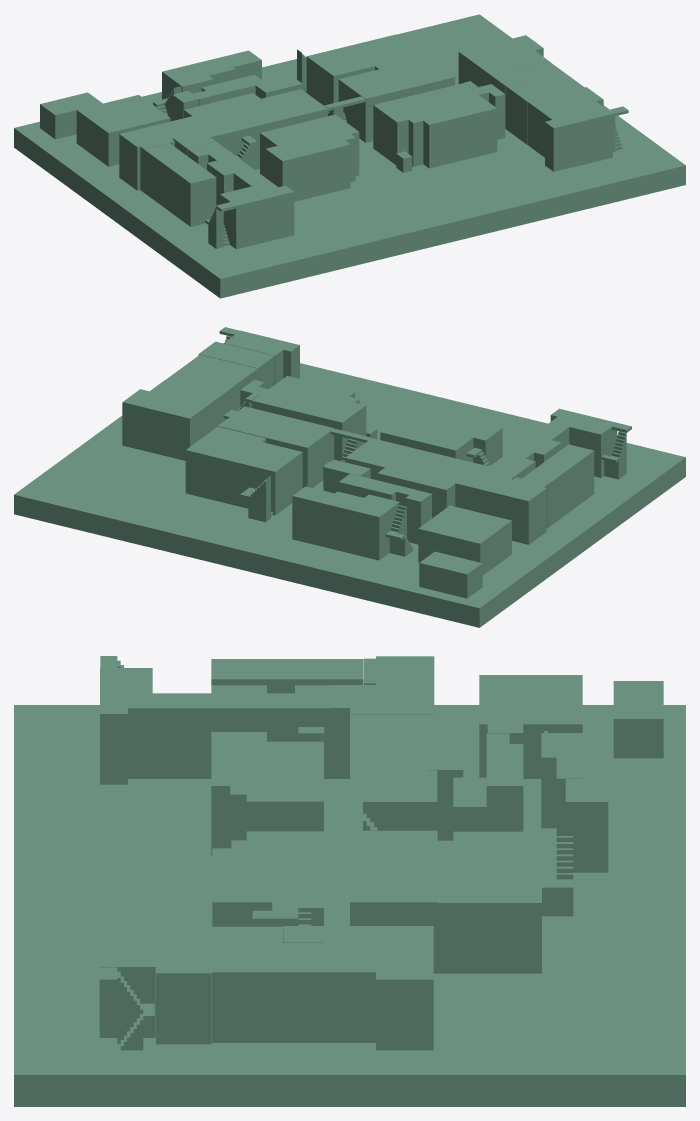
Rendered from OCH GF only (2).glb.
3 renders of one model, top to bottom at view 1: azimuth 30°, elevation 25°; view 2: azimuth 150°, elevation 25°; view 3: azimuth 270°, elevation 25°, orthographic. The views are drawn at different scales.
Parts seen in each view (by area): view 1: 1F; view 2: 1F; view 3: 1F.
Part boxes in pixels (bbox=[...]): 1F: bbox=[14, 14, 685, 298]; 1F: bbox=[14, 327, 685, 627]; 1F: bbox=[14, 656, 685, 1106].
Size of the model in its own units: 49.69 by 6.48 by 38.15.
